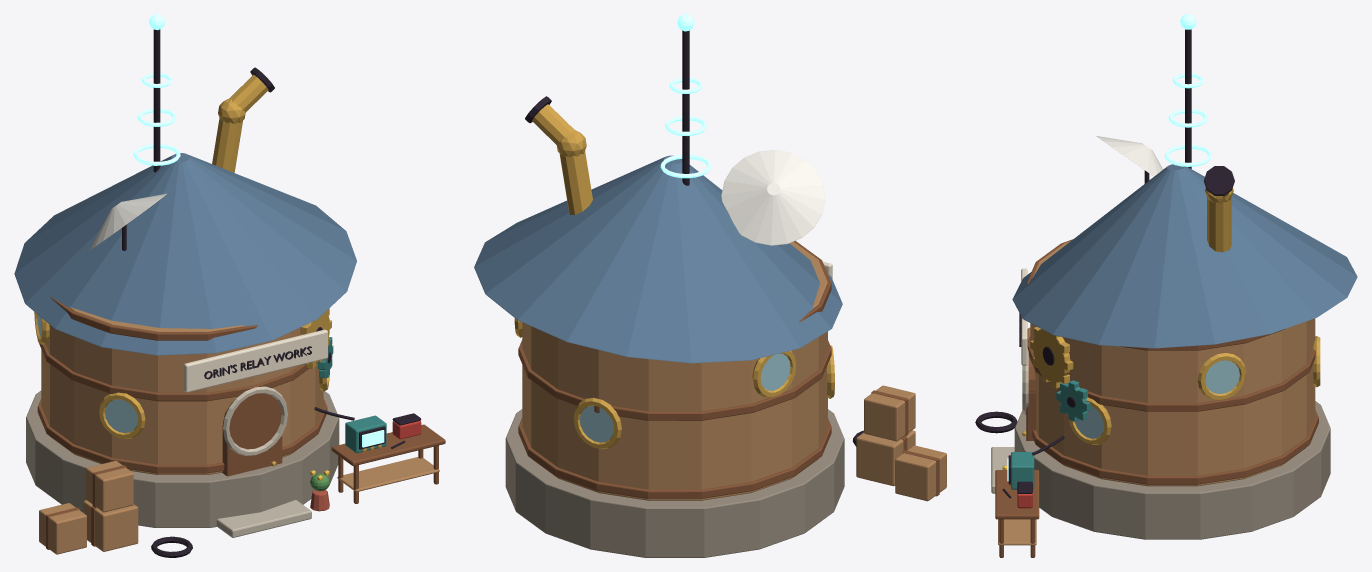
Rendered from workshop.glb.
3 views of the same model, side by side, from view 1: azimuth 30°, elevation 25°; view 2: azimuth 150°, elevation 25°; view 3: azimuth 270°, elevation 25° (orthographic). The views are drawn at different scales.
Parts seen in each view (by area): view 1: workshop; view 2: workshop; view 3: workshop.
Boxes of the visible parts, x1,y1,x2,y2 form: workshop: [14, 14, 445, 557]; workshop: [474, 14, 946, 557]; workshop: [975, 14, 1357, 557].
Bounding box in the file's own units: 8.21 × 9.62 × 7.38.
